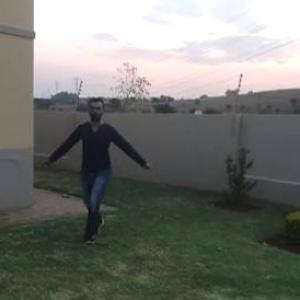land: (50, 93, 156, 229)
